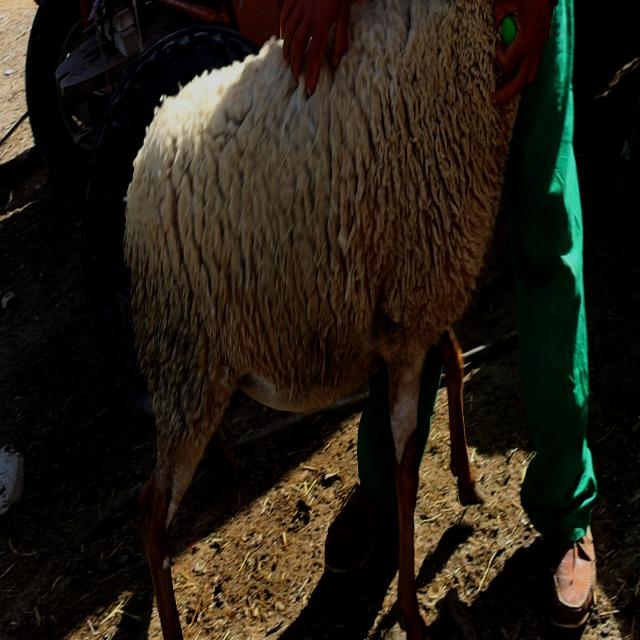Score_5: (124, 0, 519, 639)
